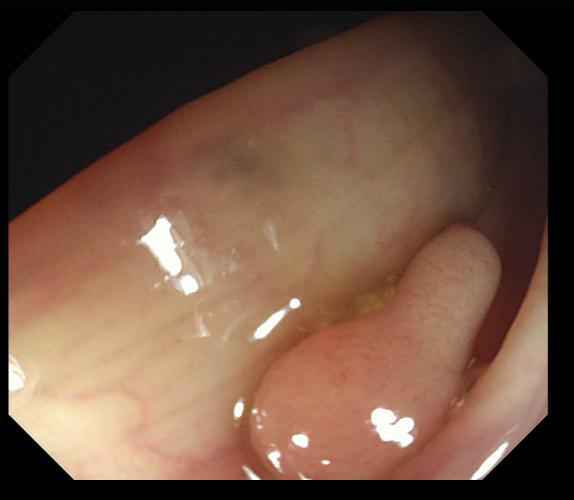polyp: (250, 225, 502, 478)
